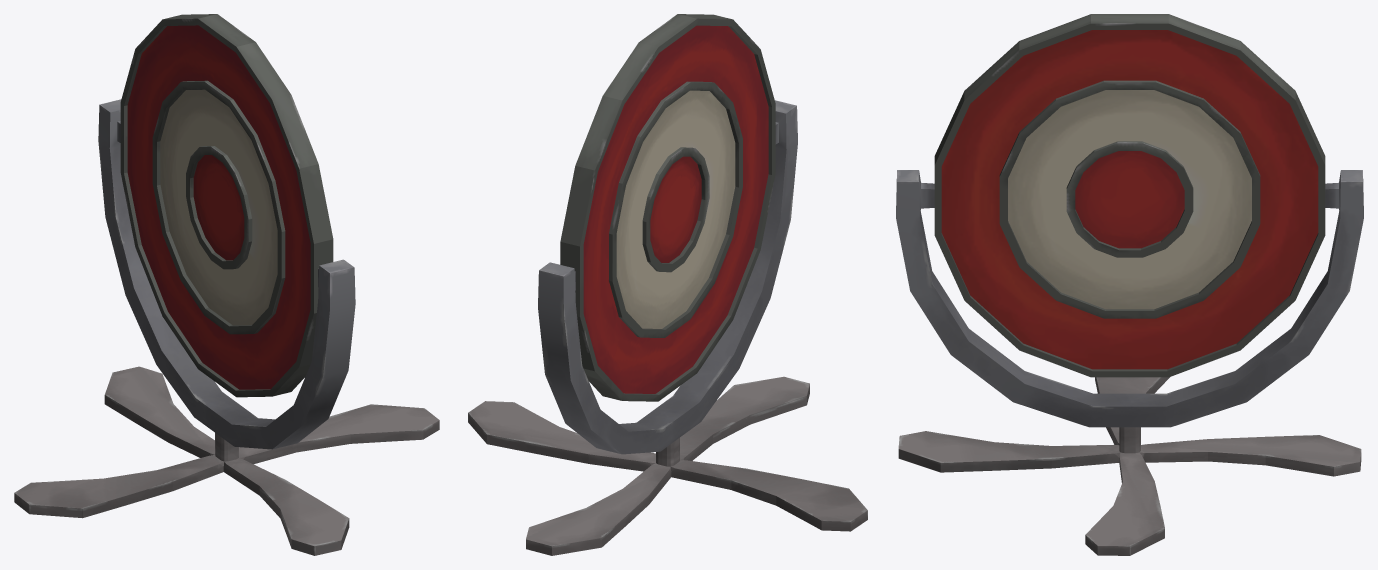
File: target.fbx
The picture shows the model from 3 angles, left to right: view 1: azimuth 30°, elevation 25°; view 2: azimuth 150°, elevation 25°; view 3: azimuth 270°, elevation 25°; orthographic projection.
Visible parts, largest first — view 1: target, target_propeller.001, target_base; view 2: target, target_propeller.001, target_base; view 3: target, target_base, target_propeller.001.
Boxes of the visible parts, box(x1,y1,x2,y2) form: target: box(120, 14, 333, 397); target_propeller.001: box(14, 366, 439, 555); target_base: box(98, 99, 355, 449); target: box(560, 14, 775, 401); target_propeller.001: box(468, 376, 867, 555); target_base: box(538, 100, 797, 454); target: box(934, 14, 1325, 377); target_base: box(896, 170, 1363, 427); target_propeller.001: box(898, 377, 1361, 555).
Size of the model in its own units: 275 by 289 by 279.
